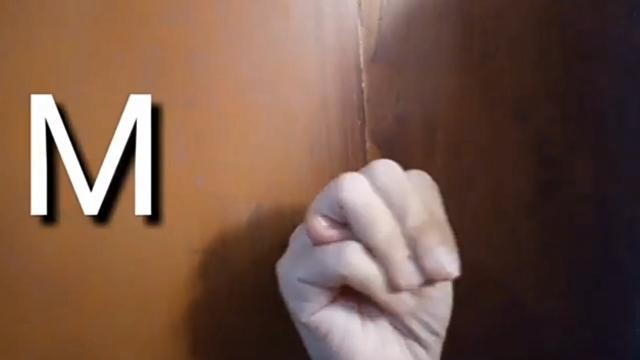M: (274, 155, 468, 360)
